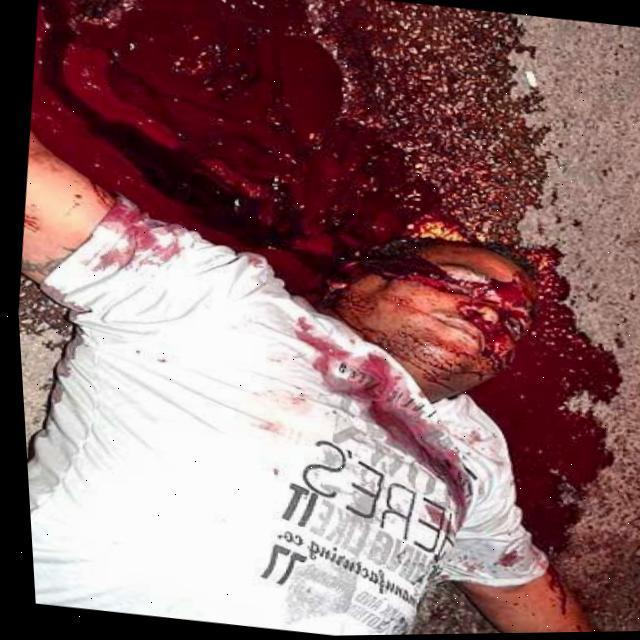knife: (32, 0, 438, 326), (483, 405, 618, 486), (466, 344, 623, 410), (520, 248, 589, 352), (516, 484, 589, 553), (456, 288, 519, 365), (376, 248, 448, 293), (488, 268, 541, 299), (546, 562, 569, 611)
